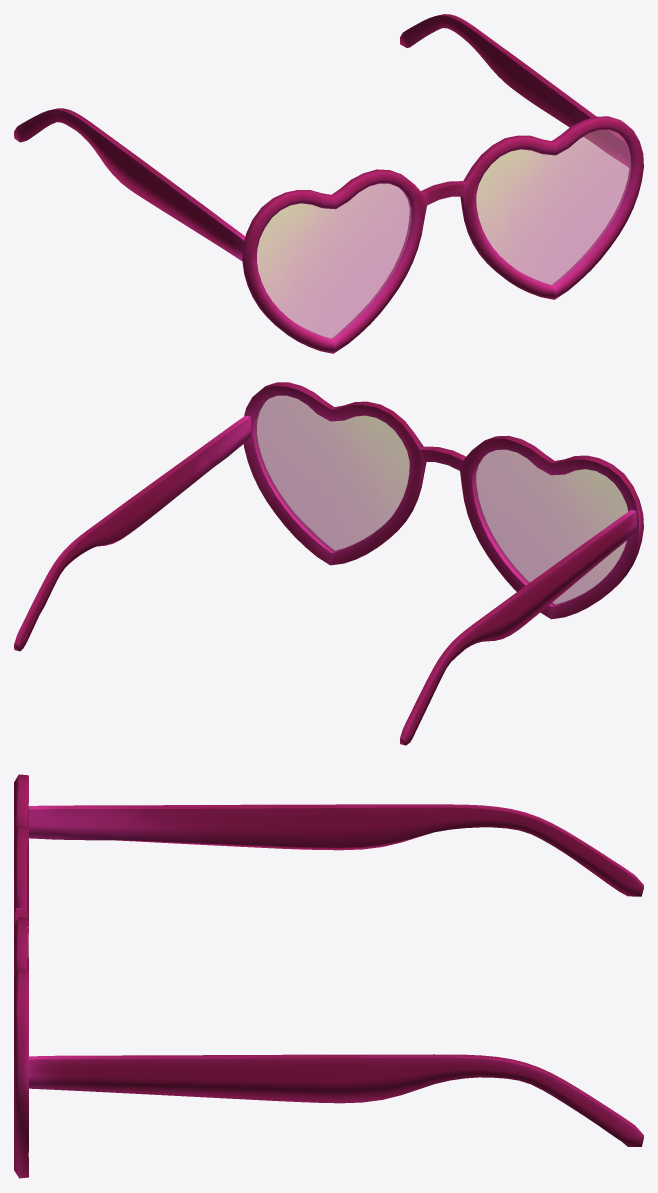
File: heart_sunglasses.glb
3 renders of one model, top to bottom at view 1: azimuth 30°, elevation 25°; view 2: azimuth 150°, elevation 25°; view 3: azimuth 270°, elevation 25°, orthographic. The views are drawn at different scales.
Parts seen in each view (by area): view 1: Heart Glasses; view 2: Heart Glasses; view 3: Heart Glasses.
Part boxes in pixels (x1,y1,x2,y2): Heart Glasses: (14,14,643,353); Heart Glasses: (14,382,643,745); Heart Glasses: (14,774,643,1178).
Bounding box in the file's own units: 0.5436 × 0.223 × 0.5605.
Materials: 1 (1 with a texture image).
